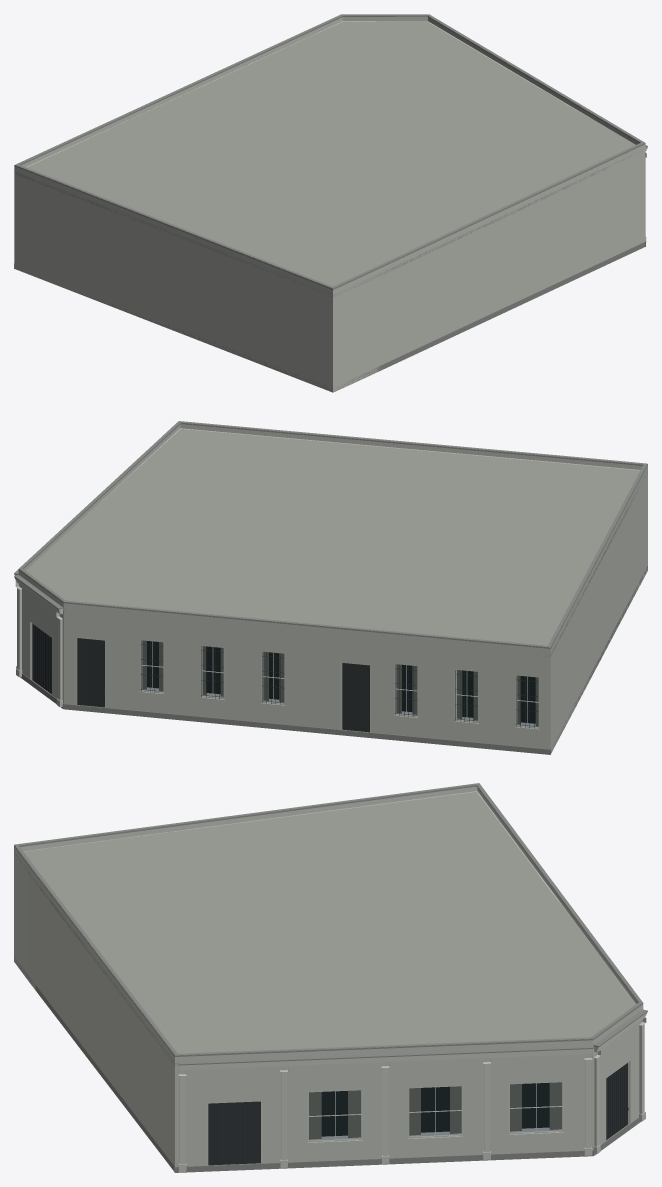
Rendered from building.glb.
3 views of the same model, one above another, from view 1: azimuth 30°, elevation 25°; view 2: azimuth 150°, elevation 25°; view 3: azimuth 270°, elevation 25° (orthographic). The views are drawn at different scales.
Visible parts, largest first — view 1: roof/bank:0/roof_slab#0001, bank:0/edge0/z0/bank:0/edge0/z0/wall_0_0, bank:0/edge3/z0/bank:0/edge3/z0/wall_0_0, roof/bank:0/parapet#0001, roof/bank:0/parapet_cap#0002, bank:0/edge1/z0/bank:0/edge1/z0/wall_0_0, roof/bank:0/parapet_cap#0001, bank:0/edge3/z0/plinth#0001, bank:0/edge2/z0/bank:0/edge2/z0/wall_0_0; view 2: roof/bank:0/roof_slab#0001, bank:0/edge0/z0/bank:0/edge0/z0/wall_0_0, roof/bank:0/parapet#0001, bank:0/edge7/zone1/bank:0/edge7/zone1/wall_0_0/clip5, bank:0/edge8/zone1/bank:0/edge8/zone1/wall_0_0/clip5, roof/bank:0/parapet_cap#0002, bank:0/edge7/zone1/bank:0/edge7/zone1/wall_0_0/clip0, bank:0/edge8/zone1/bank:0/edge8/zone1/wall_0_0/clip0, roof/bank:0/parapet_cap#0001, bank:0/edge7/zone1/bank:0/edge7/zone1/wall_0_0/clip4, bank:0/edge6/z0/bank:0/edge6/z0/wall_0_0, bank:0/edge7/zone1/bank:0/edge7/zone1/wall_0_0/clip3 (+29 smaller); view 3: roof/bank:0/roof_slab#0001, bank:0/edge5/z0/bank:0/edge5/z0/wall_0_0, bank:0/edge3/z0/bank:0/edge3/z0/wall_0_0, roof/bank:0/parapet#0001, roof/bank:0/parapet_cap#0002, bank:0/edge5/z0/opening_u1.30_v0.05/door_leaf#0001, bank:0/edge6/z0/bank:0/edge6/z0/wall_0_0, bank:0/edge5/z0/opening_u10.24_v1.20/glazing#0001, bank:0/edge5/z0/opening_u5.77_v1.20/glazing#0001, bank:0/edge5/z0/opening_u14.70_v1.20/glazing#0001, bank:0/edge5/z0/plinth#0001, roof/bank:0/parapet_cap#0001 (+14 smaller).
Boxes of the visible parts, x1=… form: roof/bank:0/roof_slab#0001: x1=14, y1=21, x2=635, y2=297; bank:0/edge0/z0/bank:0/edge0/z0/wall_0_0: x1=14, y1=171, x2=333, y2=392; bank:0/edge3/z0/bank:0/edge3/z0/wall_0_0: x1=376, y1=148, x2=645, y2=372; roof/bank:0/parapet#0001: x1=14, y1=17, x2=645, y2=294; roof/bank:0/parapet_cap#0002: x1=15, y1=14, x2=644, y2=288; bank:0/edge1/z0/bank:0/edge1/z0/wall_0_0: x1=333, y1=282, x2=361, y2=392; roof/bank:0/parapet_cap#0001: x1=14, y1=16, x2=645, y2=289; bank:0/edge3/z0/plinth#0001: x1=376, y1=241, x2=645, y2=371; bank:0/edge2/z0/bank:0/edge2/z0/wall_0_0: x1=361, y1=275, x2=375, y2=379; roof/bank:0/roof_slab#0001: x1=26, y1=429, x2=647, y2=656; bank:0/edge0/z0/bank:0/edge0/z0/wall_0_0: x1=550, y1=470, x2=647, y2=752; roof/bank:0/parapet#0001: x1=18, y1=424, x2=647, y2=653; bank:0/edge7/zone1/bank:0/edge7/zone1/wall_0_0/clip5: x1=130, y1=614, x2=328, y2=656; bank:0/edge8/zone1/bank:0/edge8/zone1/wall_0_0/clip5: x1=384, y1=638, x2=550, y2=677; roof/bank:0/parapet_cap#0002: x1=19, y1=421, x2=647, y2=647; bank:0/edge7/zone1/bank:0/edge7/zone1/wall_0_0/clip0: x1=130, y1=691, x2=328, y2=728; bank:0/edge8/zone1/bank:0/edge8/zone1/wall_0_0/clip0: x1=384, y1=715, x2=550, y2=749; roof/bank:0/parapet_cap#0001: x1=18, y1=423, x2=647, y2=648; bank:0/edge7/zone1/bank:0/edge7/zone1/wall_0_0/clip4: x1=285, y1=653, x2=328, y2=709; bank:0/edge6/z0/bank:0/edge6/z0/wall_0_0: x1=19, y1=584, x2=63, y2=703; bank:0/edge7/zone1/bank:0/edge7/zone1/wall_0_0/clip3: x1=224, y1=647, x2=261, y2=703; roof/bank:0/roof_slab#0001: x1=15, y1=792, x2=635, y2=1065; bank:0/edge5/z0/bank:0/edge5/z0/wall_0_0: x1=178, y1=1045, x2=593, y2=1166; bank:0/edge3/z0/bank:0/edge3/z0/wall_0_0: x1=35, y1=880, x2=174, y2=1166; roof/bank:0/parapet#0001: x1=14, y1=786, x2=643, y2=1061; roof/bank:0/parapet_cap#0002: x1=14, y1=783, x2=642, y2=1055; bank:0/edge5/z0/opening_u1.30_v0.05/door_leaf#0001: x1=208, y1=1101, x2=260, y2=1165; bank:0/edge6/z0/bank:0/edge6/z0/wall_0_0: x1=593, y1=1020, x2=642, y2=1149; bank:0/edge5/z0/opening_u10.24_v1.20/glazing#0001: x1=409, y1=1086, x2=461, y2=1136; bank:0/edge5/z0/opening_u5.77_v1.20/glazing#0001: x1=309, y1=1090, x2=361, y2=1140; bank:0/edge5/z0/opening_u14.70_v1.20/glazing#0001: x1=510, y1=1082, x2=562, y2=1132; bank:0/edge5/z0/plinth#0001: x1=178, y1=1150, x2=593, y2=1172; roof/bank:0/parapet_cap#0001: x1=14, y1=785, x2=643, y2=1056.
Size of the model in its own units: 28.82 by 5.72 by 28.05.
